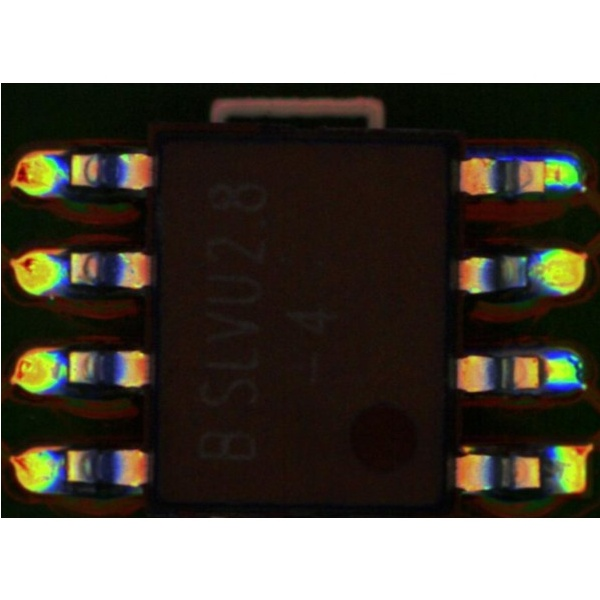Bad_podu: (529, 358, 553, 384), (524, 165, 563, 180)
